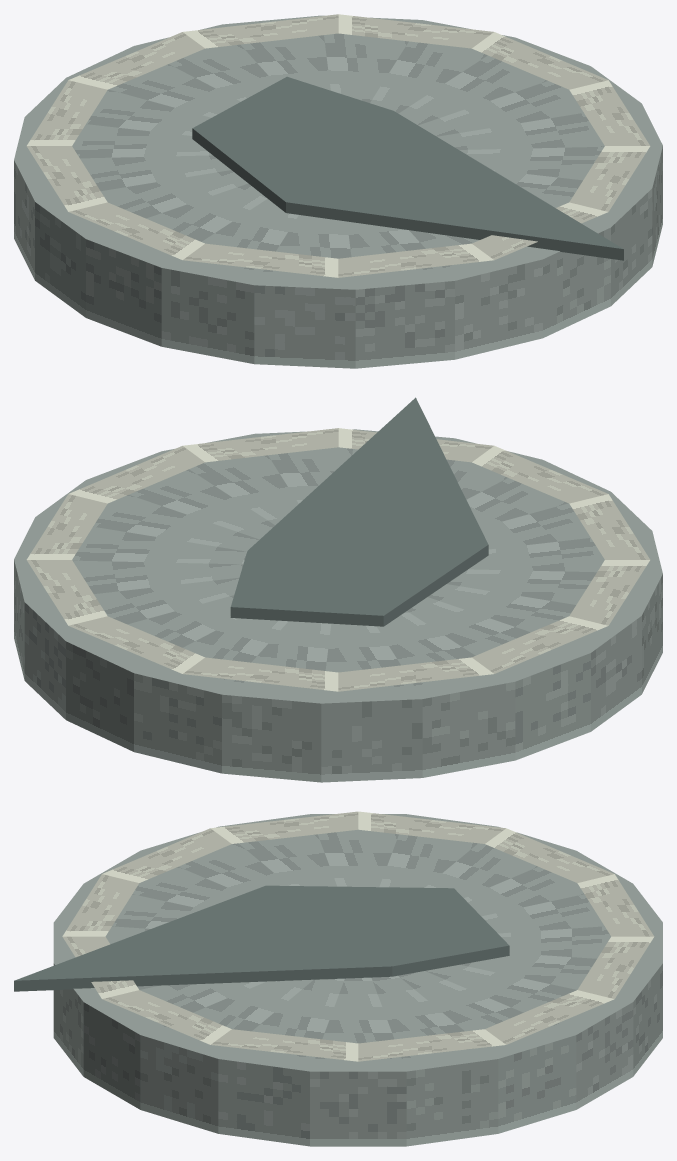
File: coin_dime.glb
The picture shows the model from 3 angles, top to bottom: view 1: azimuth 30°, elevation 25°; view 2: azimuth 150°, elevation 25°; view 3: azimuth 270°, elevation 25°; orthographic projection. The views are drawn at different scales.
Parts seen in each view (by area): view 1: block_minted disc, block_raised profile, block_rim 9, block_rim 10, block_rim 3, block_rim 4, block_rim 8, block_rim 11, block_rim 5, block_rim 1, block_rim 6, block_rim 0 (+2 smaller); view 2: block_minted disc, block_raised profile, block_rim 7, block_rim 8, block_rim 1, block_rim 6, block_rim 9, block_rim 0, block_rim 3, block_rim 4, block_rim 11, block_rim 5 (+2 smaller); view 3: block_minted disc, block_raised profile, block_rim 0, block_rim 5, block_rim 6, block_rim 11, block_rim 4, block_rim 7, block_rim 10, block_rim 1, block_rim 9, block_rim 3 (+2 smaller).
Boxes of the visible parts, bbox=[...] form: block_minted disc: bbox=[14, 15, 662, 368]; block_raised profile: bbox=[192, 76, 623, 260]; block_rim 9: bbox=[183, 14, 338, 48]; block_rim 10: bbox=[338, 14, 493, 48]; block_rim 3: bbox=[338, 243, 493, 277]; block_rim 4: bbox=[183, 243, 338, 277]; block_rim 8: bbox=[68, 32, 204, 89]; block_rim 11: bbox=[472, 32, 608, 89]; block_rim 5: bbox=[69, 202, 204, 259]; block_rim 1: bbox=[569, 146, 650, 211]; block_rim 6: bbox=[26, 146, 107, 211]; block_rim 0: bbox=[569, 80, 649, 145]; block_minted disc: bbox=[14, 429, 662, 782]; block_raised profile: bbox=[230, 397, 488, 626]; block_rim 7: bbox=[338, 657, 493, 691]; block_rim 8: bbox=[183, 657, 338, 691]; block_rim 1: bbox=[183, 428, 338, 462]; block_rim 6: bbox=[472, 616, 608, 673]; block_rim 9: bbox=[68, 616, 204, 673]; block_rim 0: bbox=[69, 446, 204, 503]; block_rim 3: bbox=[472, 446, 607, 503]; block_rim 4: bbox=[569, 494, 650, 559]; block_rim 11: bbox=[26, 494, 107, 559]; block_rim 5: bbox=[569, 560, 649, 625]; block_minted disc: bbox=[53, 814, 662, 1146]; block_raised profile: bbox=[14, 885, 509, 991]; block_rim 0: bbox=[211, 1029, 358, 1061]; block_rim 5: bbox=[211, 811, 358, 843]; block_rim 6: bbox=[358, 811, 505, 843]; block_rim 11: bbox=[358, 1029, 505, 1061]; block_rim 4: bbox=[102, 828, 231, 882]; block_rim 7: bbox=[485, 828, 613, 882]; block_rim 10: bbox=[485, 990, 614, 1044]; block_rim 1: bbox=[102, 990, 231, 1044]; block_rim 9: bbox=[577, 936, 653, 998]; block_rim 3: bbox=[62, 874, 139, 936].
Bounding box in the file's own units: 0.0177 × 0.00273 × 0.0188.
1 material, 1 textured.
